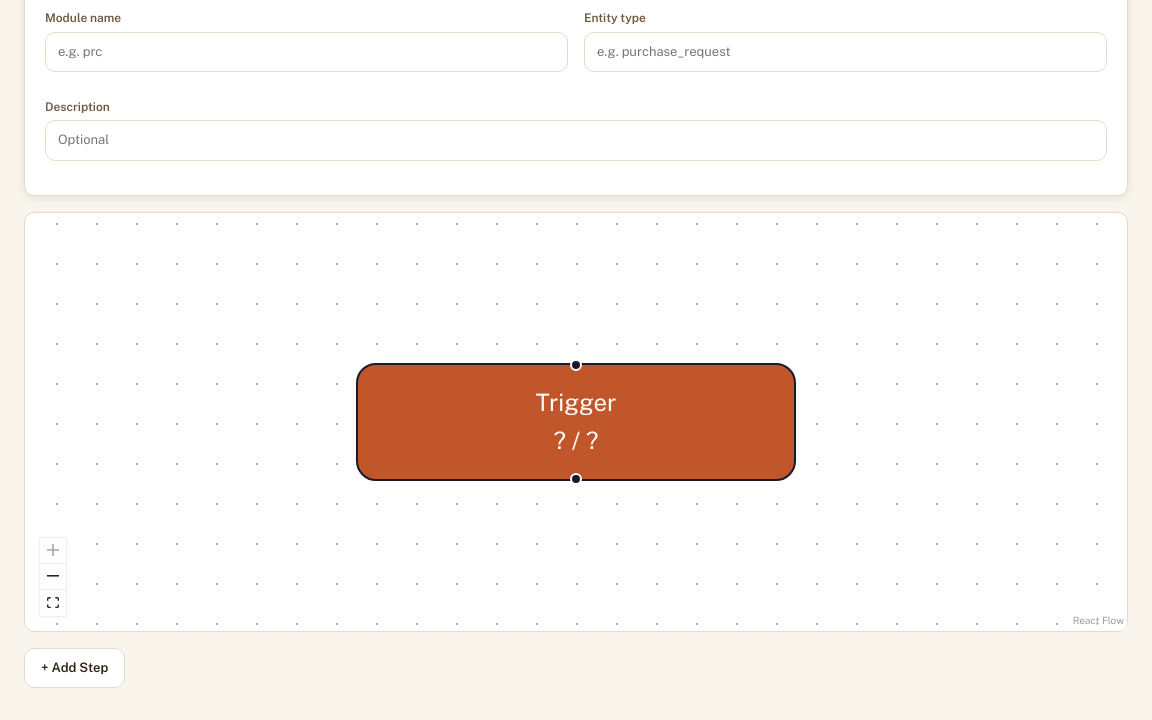
Test case: WorkflowBuilderPage — node configuration › adding a step opens real configuration for it
(page scrolled)
Click the button "+ Add Step" at (75, 668), box [24,648,125,688]
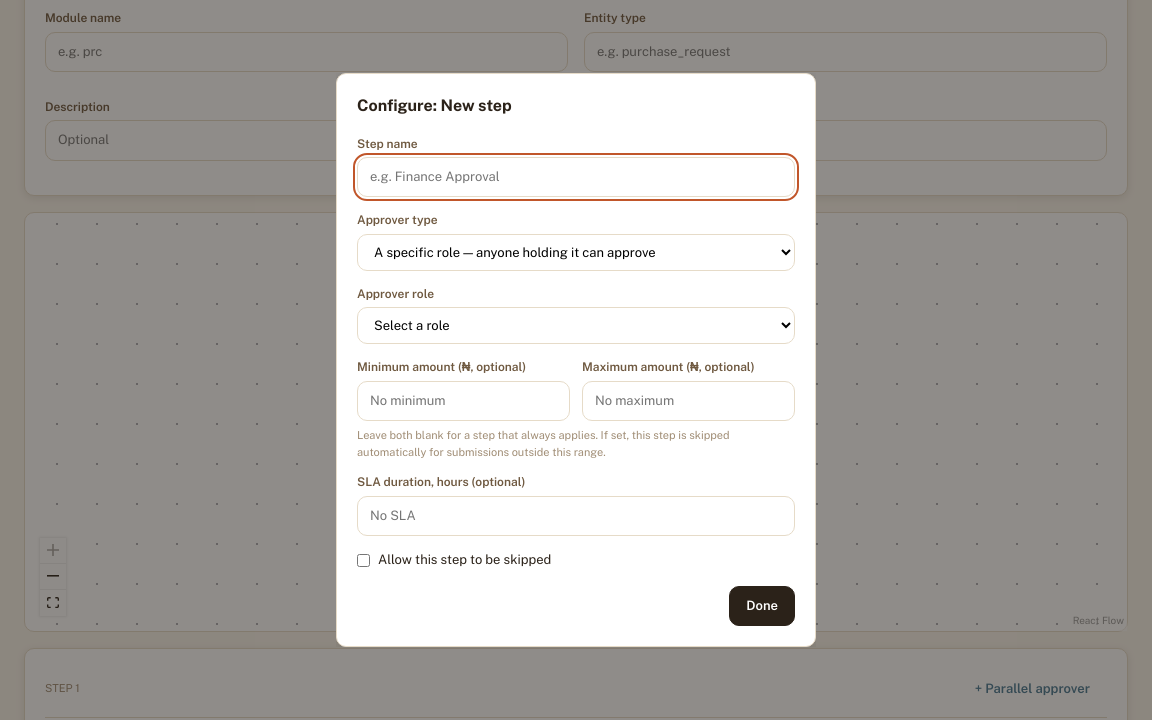
Now the text "Configure: New step" is shown, box [357,96,512,115]
Now the field labelled "Step name" is shown, box [357,157,795,197]
Now the dropdown labelled "Approver type" is shown, box [357,234,795,271]
